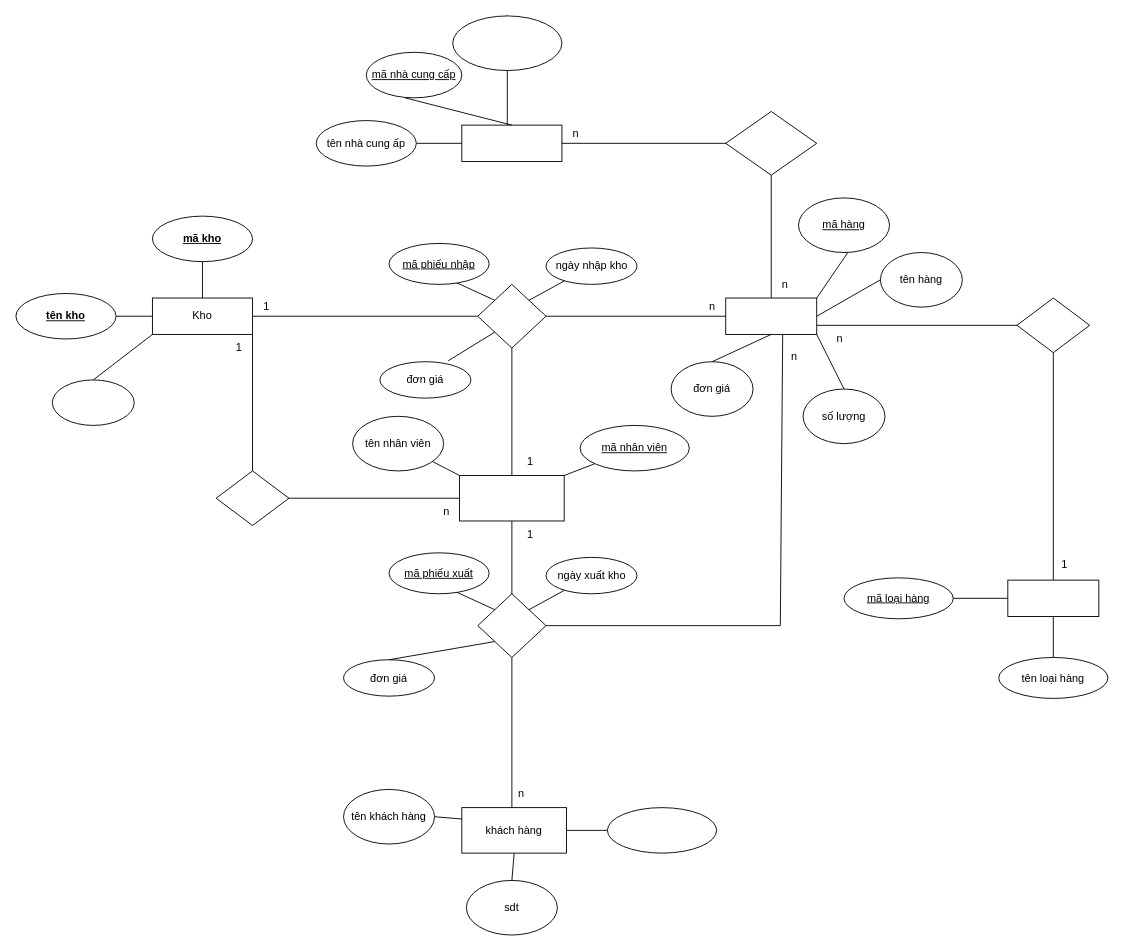
Some shapes in this 1124 by 951 pixel diagram are drawn without their labels. The centre of each missing label's shape, as x and y in pixels:
cung cấp: (771,143)
có: (252,498)
hàng hóa: (771,315)
loại hàng: (1053,598)
mã khách hàng: (662,830)
NHÀ CUNG CẤP: (511,143)
nhân viên: (511,498)
nhập: (511,315)
số điện thoại: (507,43)
thuộc: (1053,325)
xuất: (511,625)
địa chỉ: (92,402)
